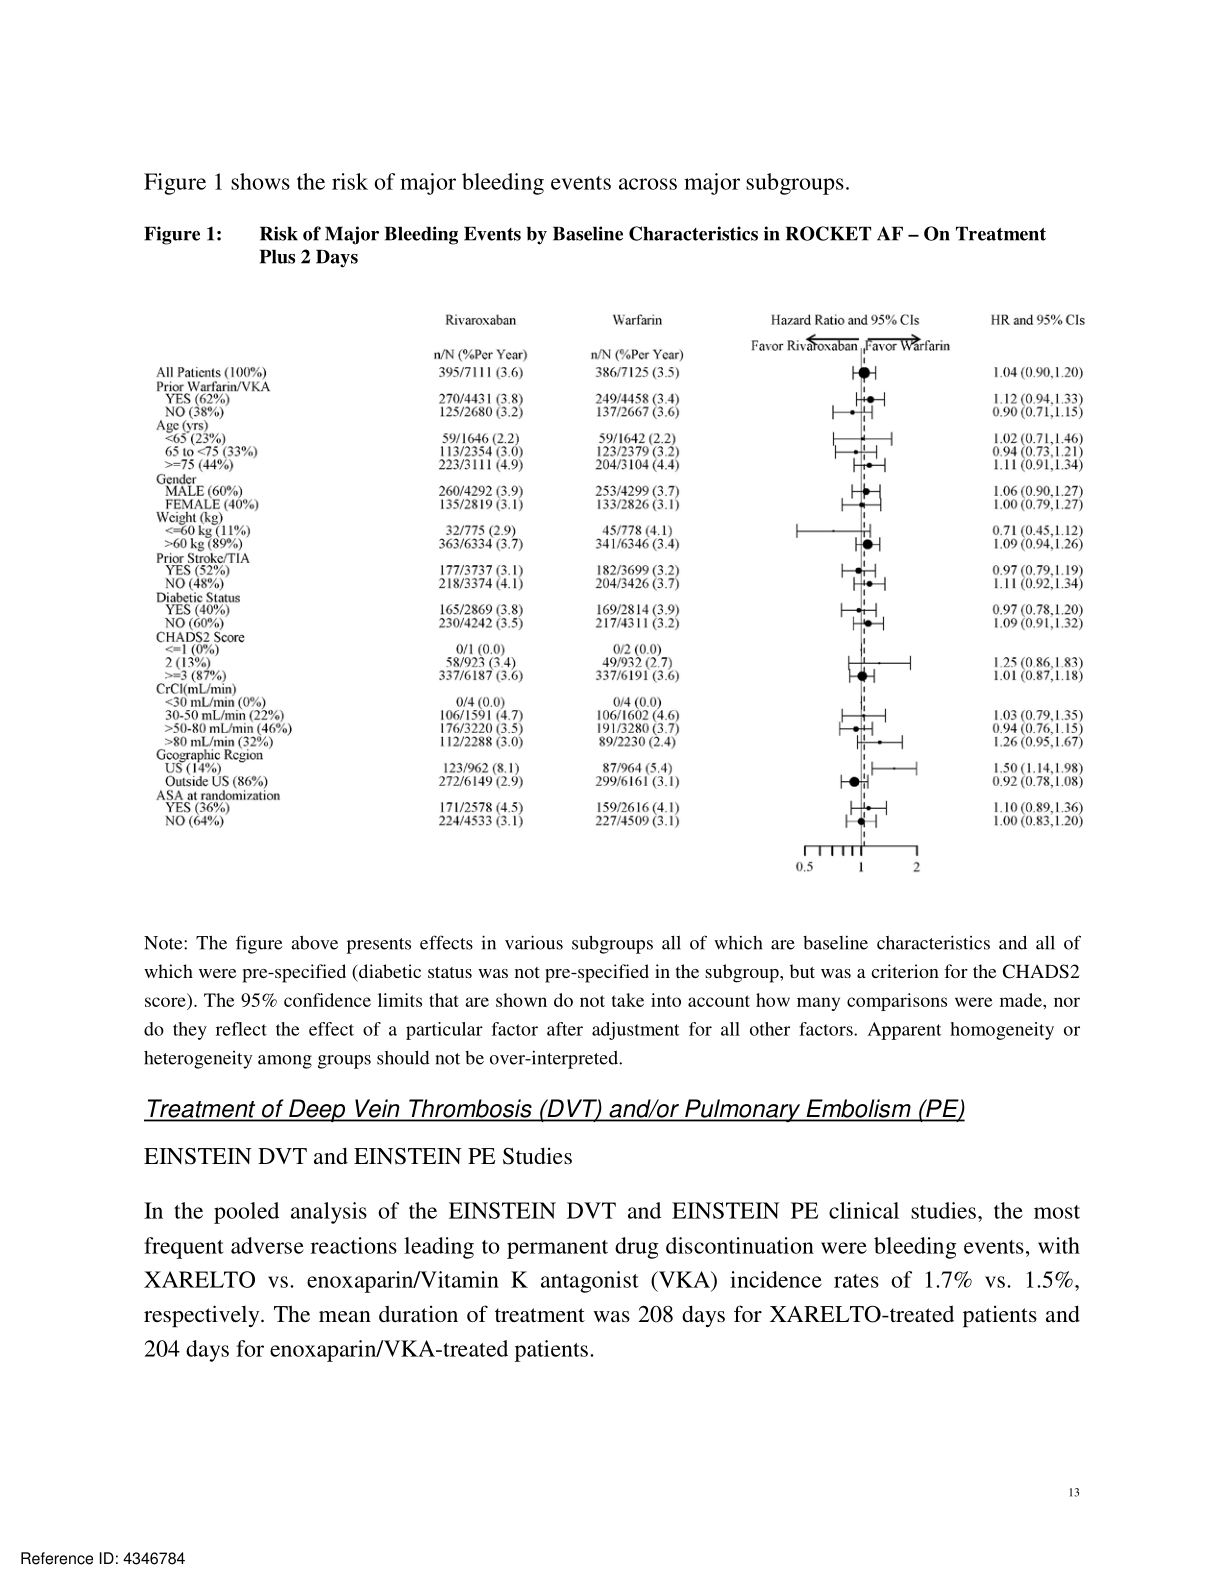nolines: (150, 305, 1092, 834)
